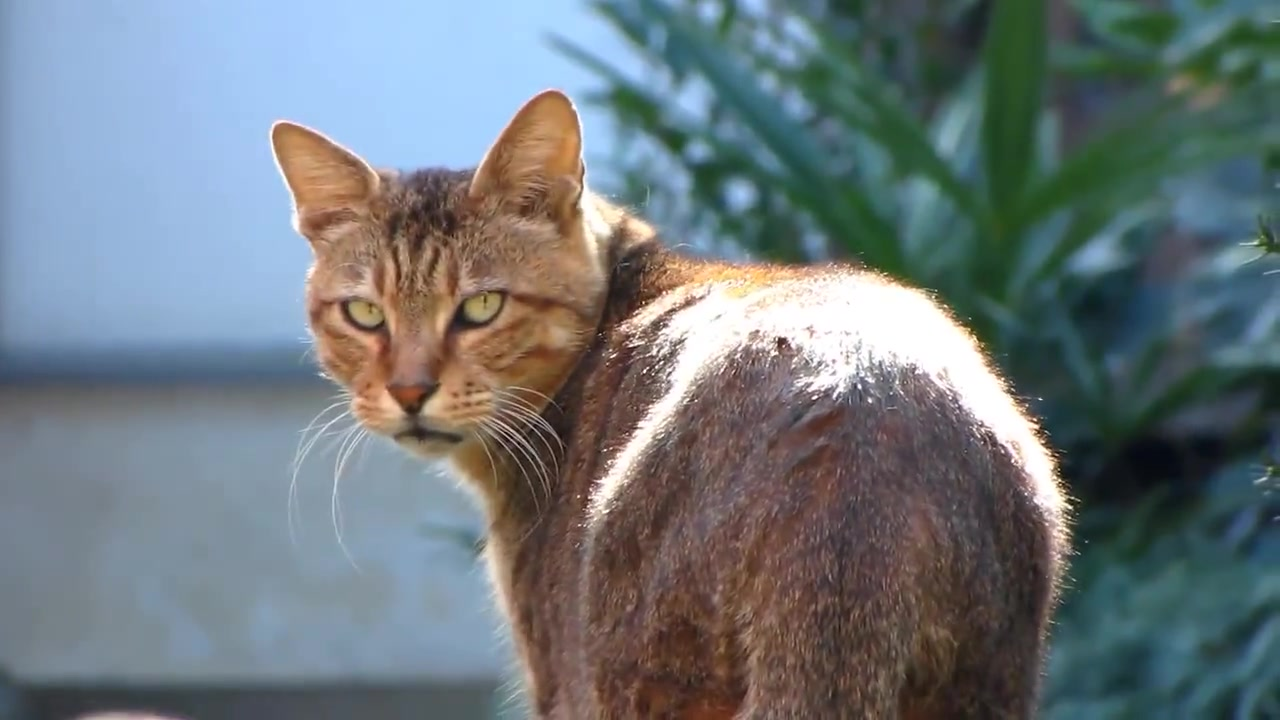cat: (258, 84, 1079, 720)
